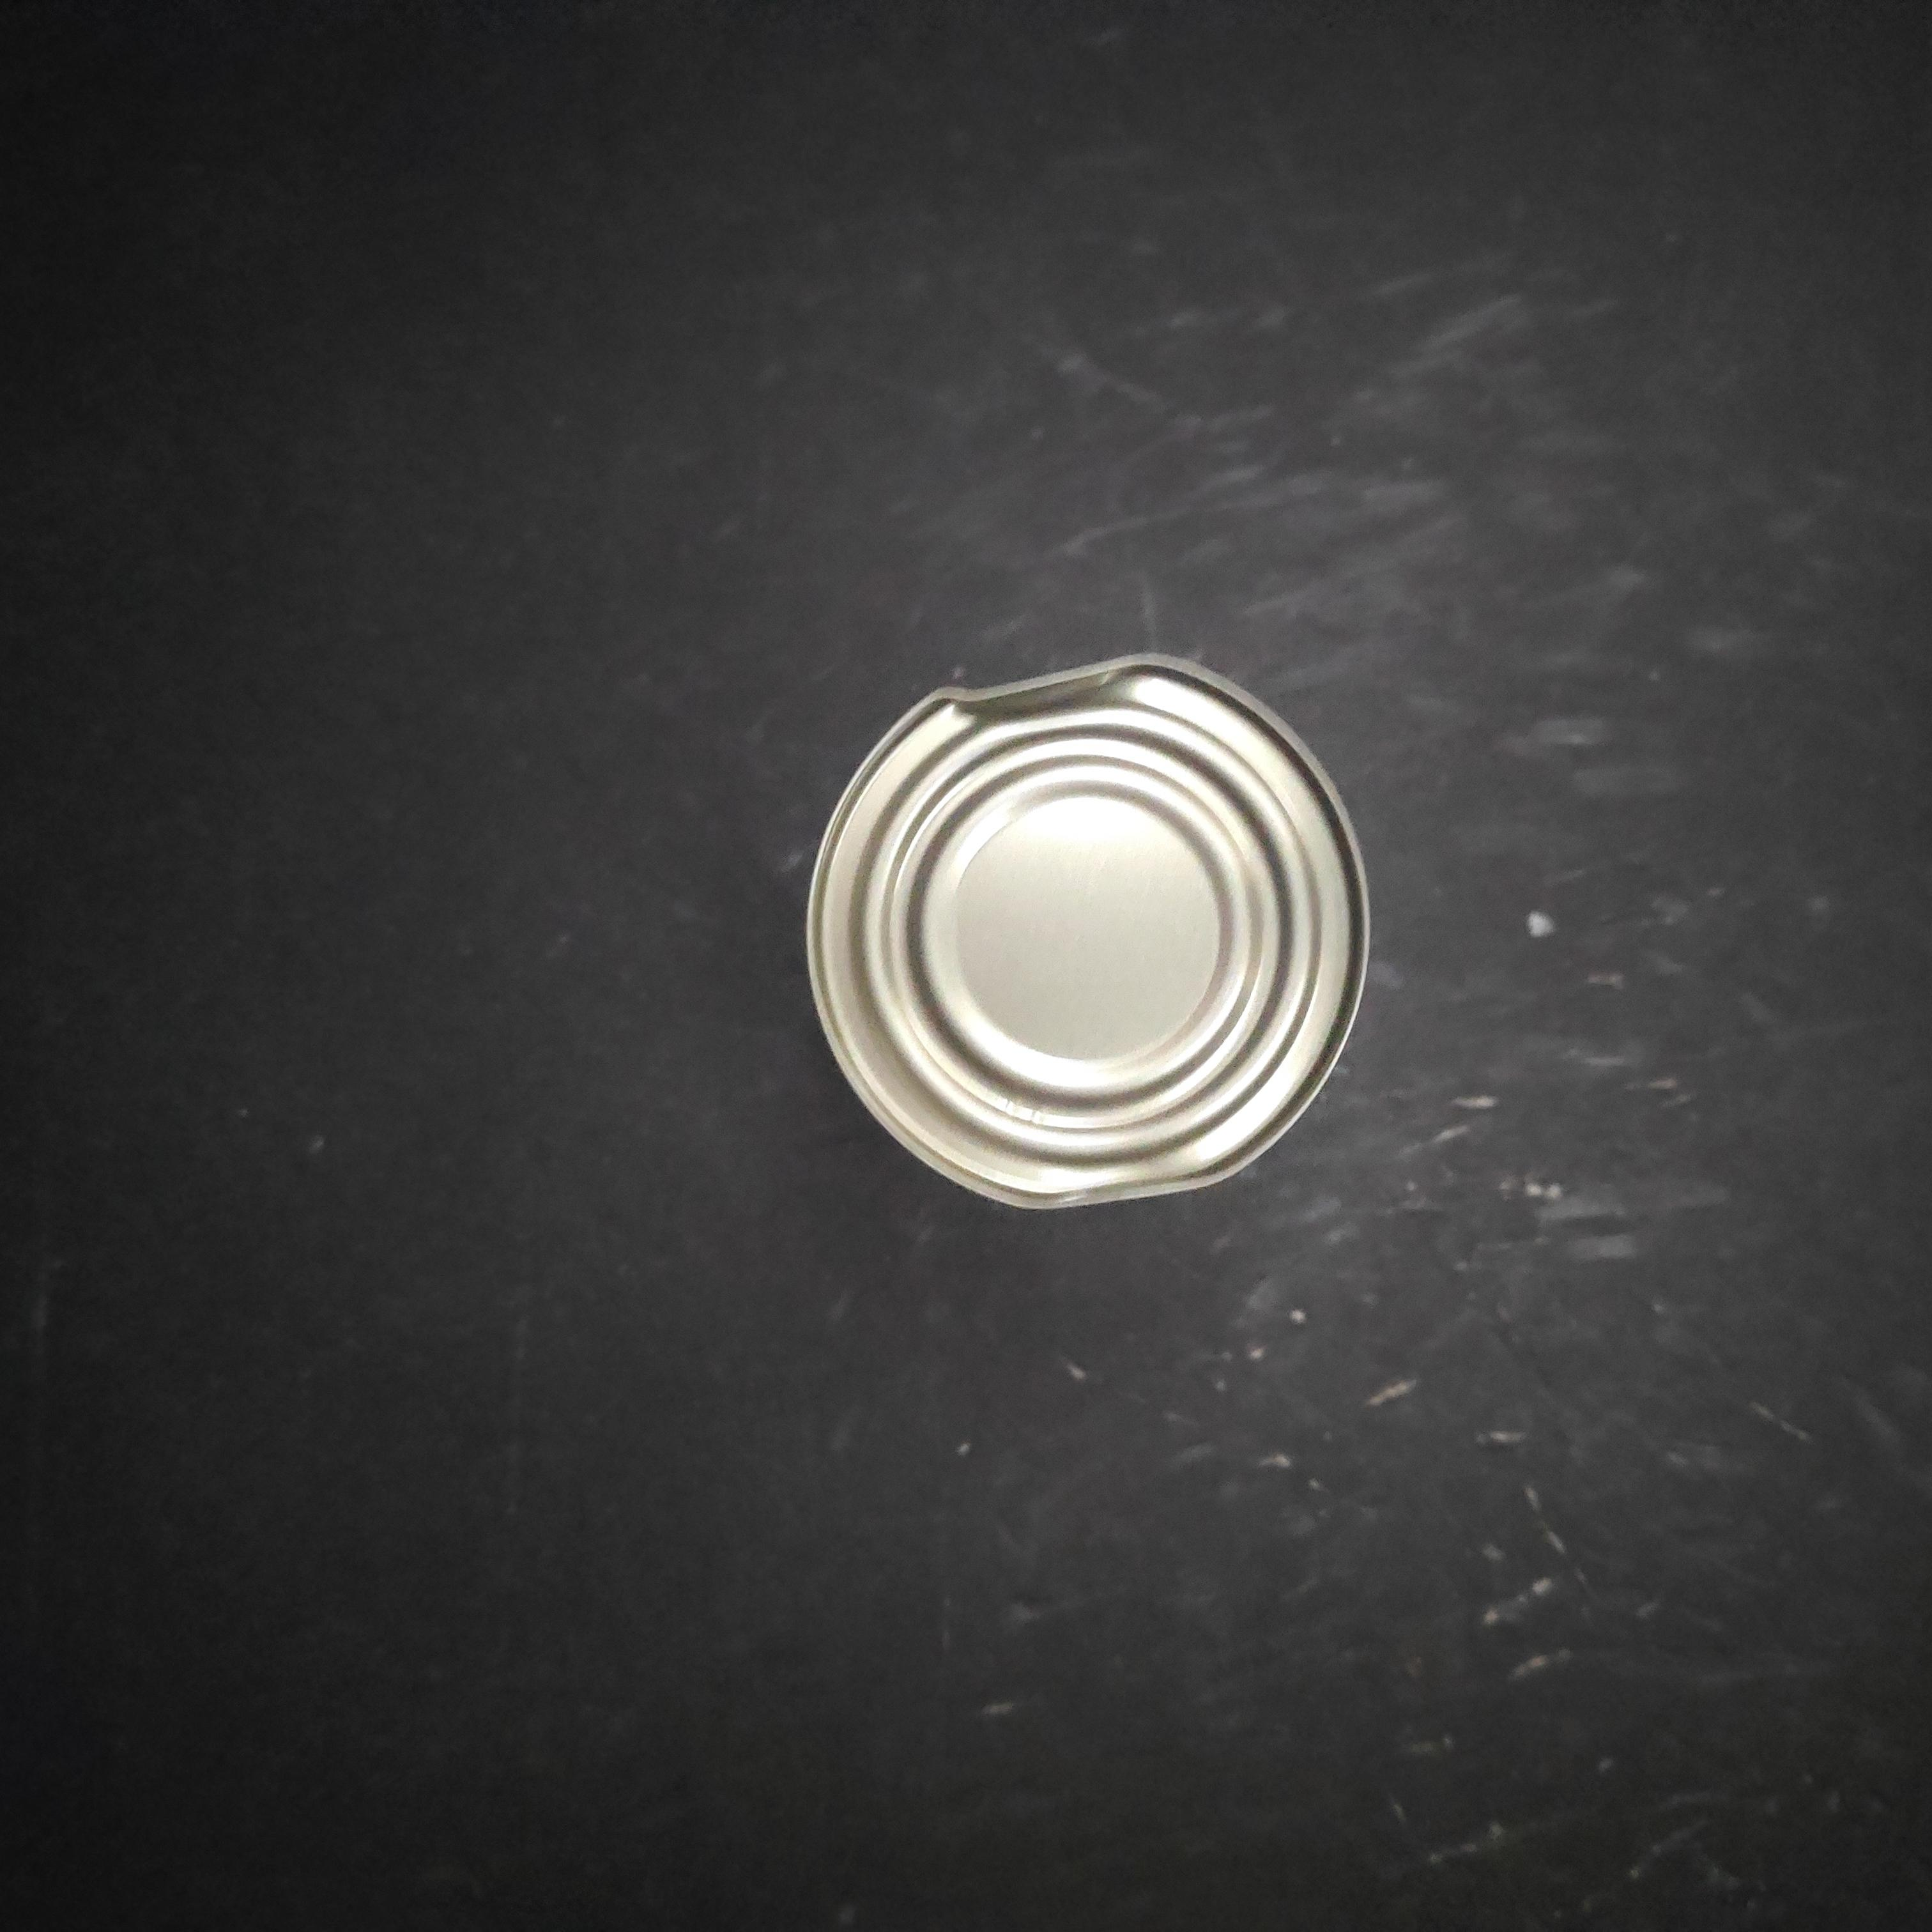Minor Defect: (550, 701, 1143, 1309)
